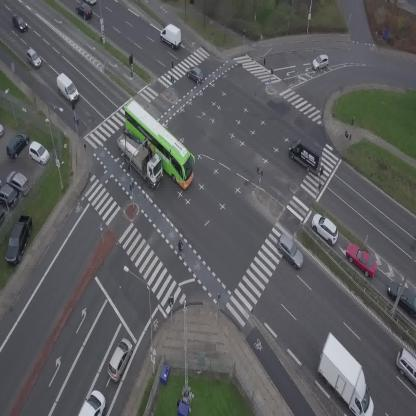bicycle: (173, 239, 188, 259)
bus: (112, 98, 206, 191)
car: (341, 238, 383, 282), (102, 336, 137, 384), (271, 231, 310, 271), (306, 209, 344, 247), (78, 390, 106, 416), (183, 62, 208, 86), (8, 12, 30, 35), (22, 47, 43, 71), (310, 53, 331, 71), (84, 0, 97, 6)
lorry: (302, 331, 391, 416), (108, 125, 173, 189), (283, 134, 330, 177), (156, 20, 188, 51), (52, 72, 83, 103)
